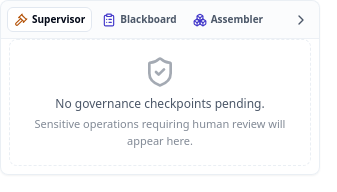
Test: CrewTabbedRightRail › renders friendly empty states when no artifacts exist
This screenshot has width=337, height=192.
Expected: the text "No governance checkpoints pending." is shown, [55,95,265,112]
What coordinates should you click on to do the following:
click the button with test id "tab-blackboard"
I would click on:
 (140, 20)
Its box is [96,8,183,31].
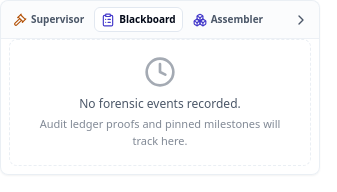
Expected: the text "No forensic events recorded." is shown, [79,95,241,112]
